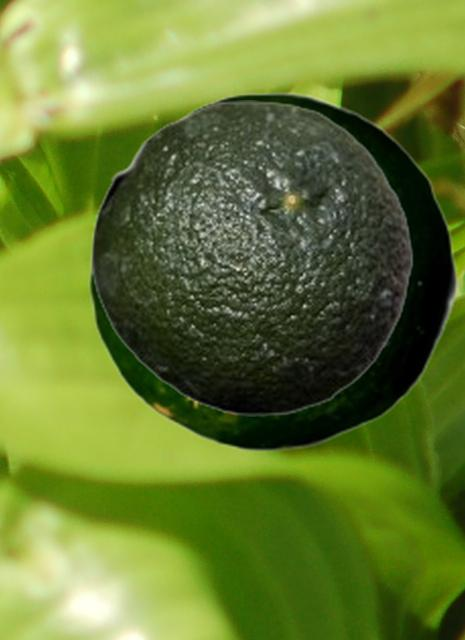calamansi: (88, 91, 458, 451), (90, 100, 413, 415)
